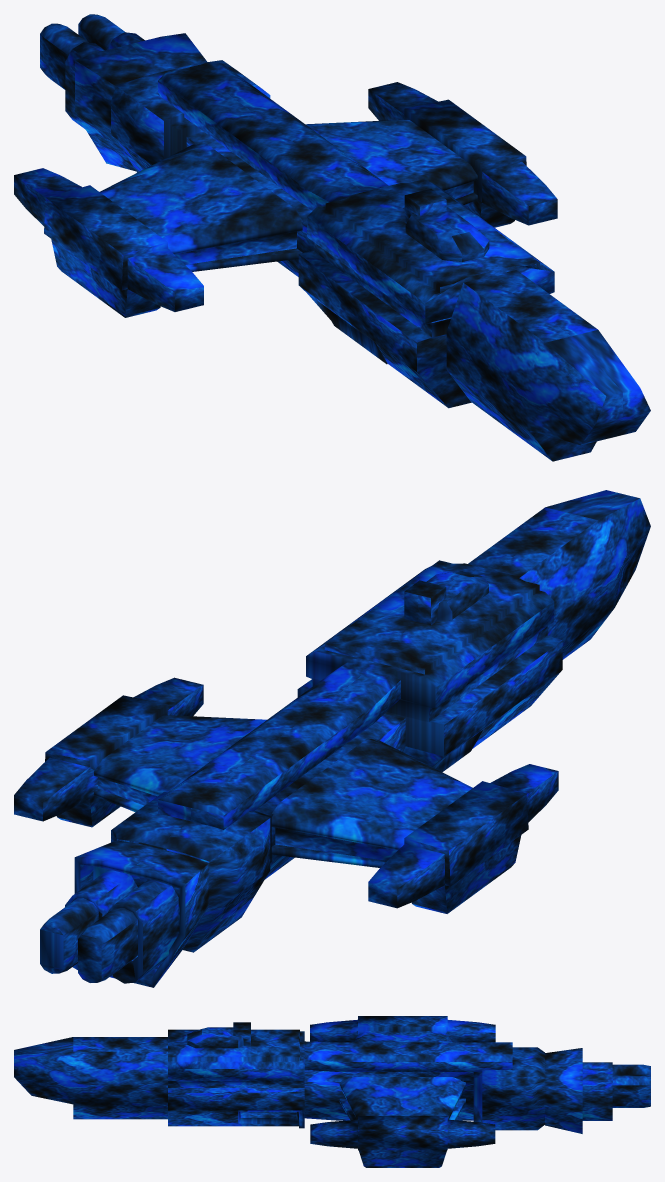
Rendered from SpectreShield.fbx.
3 views of the same model, one above another, from view 1: azimuth 30°, elevation 25°; view 2: azimuth 150°, elevation 25°; view 3: azimuth 270°, elevation 25° (orthographic). The views are drawn at different scales.
Visible parts, largest first — view 1: SpectreShield; view 2: SpectreShield; view 3: SpectreShield.
Part boxes in pixels (left/top/right/bottom): SpectreShield: left=14, top=14, right=650, bottom=461; SpectreShield: left=14, top=490, right=650, bottom=987; SpectreShield: left=14, top=1016, right=650, bottom=1167.
Size of the model in its own units: 488 by 202 by 1149.
